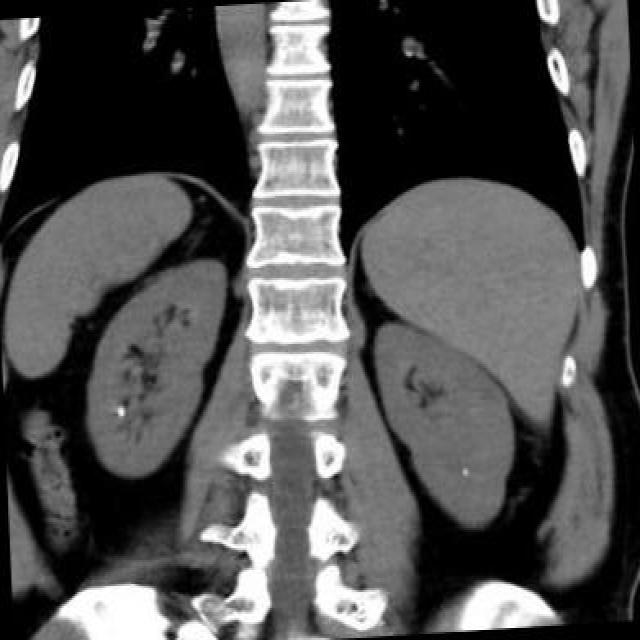Tas_Var: (454, 461, 474, 481), (109, 402, 128, 422)
